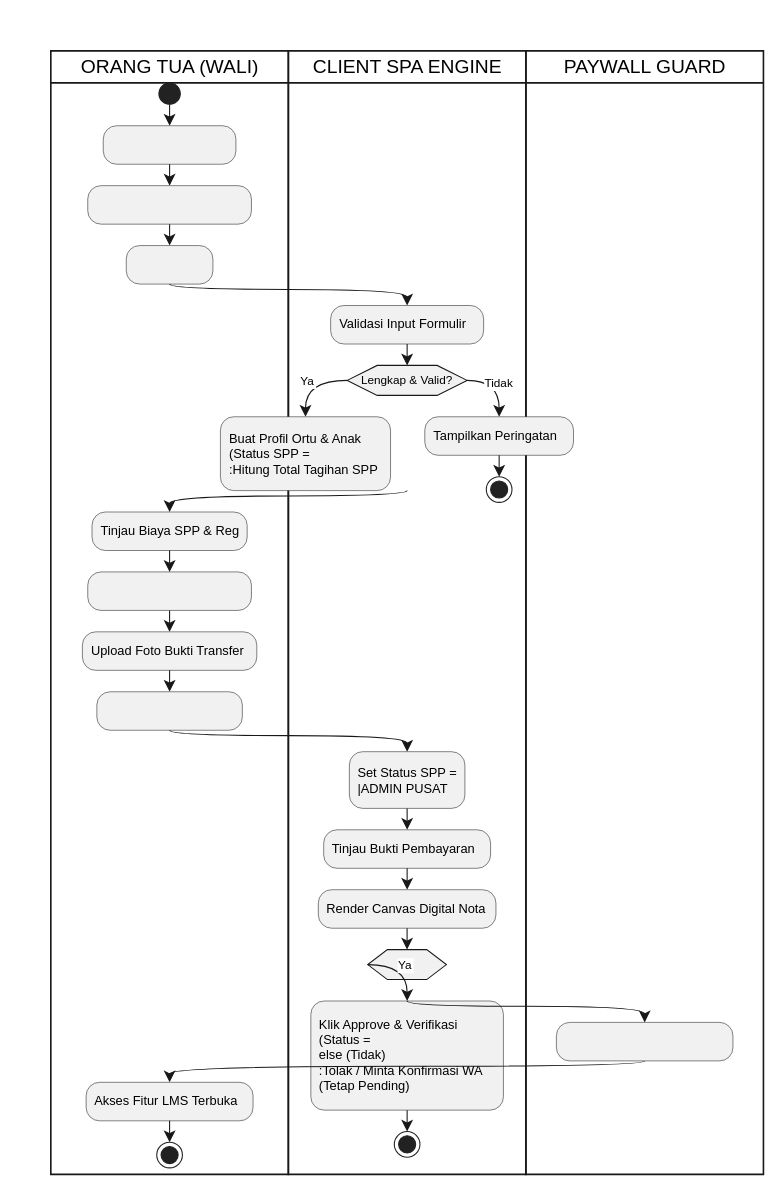
The diagram is 782 pixels wide and 1193 high, and some of its shapes have lost their labels. Each missing label, with the centre of its shape:
"Buka Landing Page" belongs at point (169, 144).
"Isikan Form Registration" belongs at point (169, 204).
"Klik Kirim Bukti Bayar" belongs at point (169, 710).
"Klik Submit" belongs at point (169, 264).
"Transfer via Bank / QRIS" belongs at point (169, 590).
"Unlock Access E-Learning" belongs at point (644, 1041).
"Validasi?" belongs at point (406, 964).
